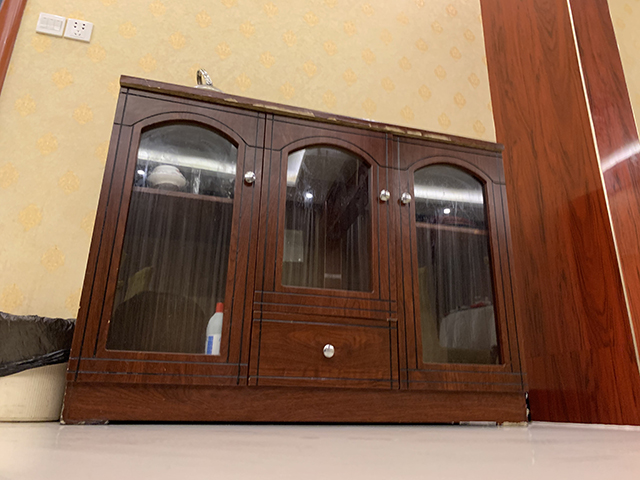cabinet: (57, 71, 531, 428)
